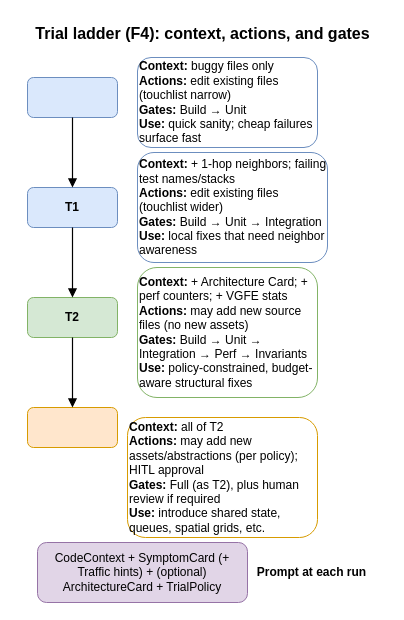
Image size: 404x620. Some labels were removed from this diagram. The shapes that lost their labels are listed below. From the top down, each one's centre as x and y in pixels, then its label:
At point 72,97: "T0".
At point 72,427: "T3".
